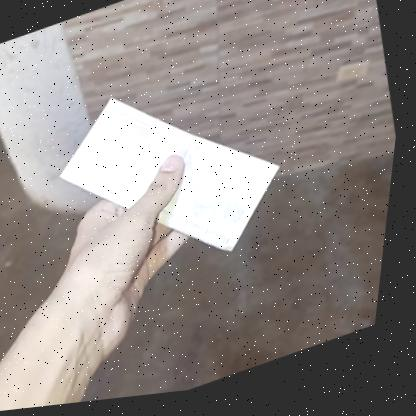one_hundred-back-vef: (36, 46, 313, 313)
